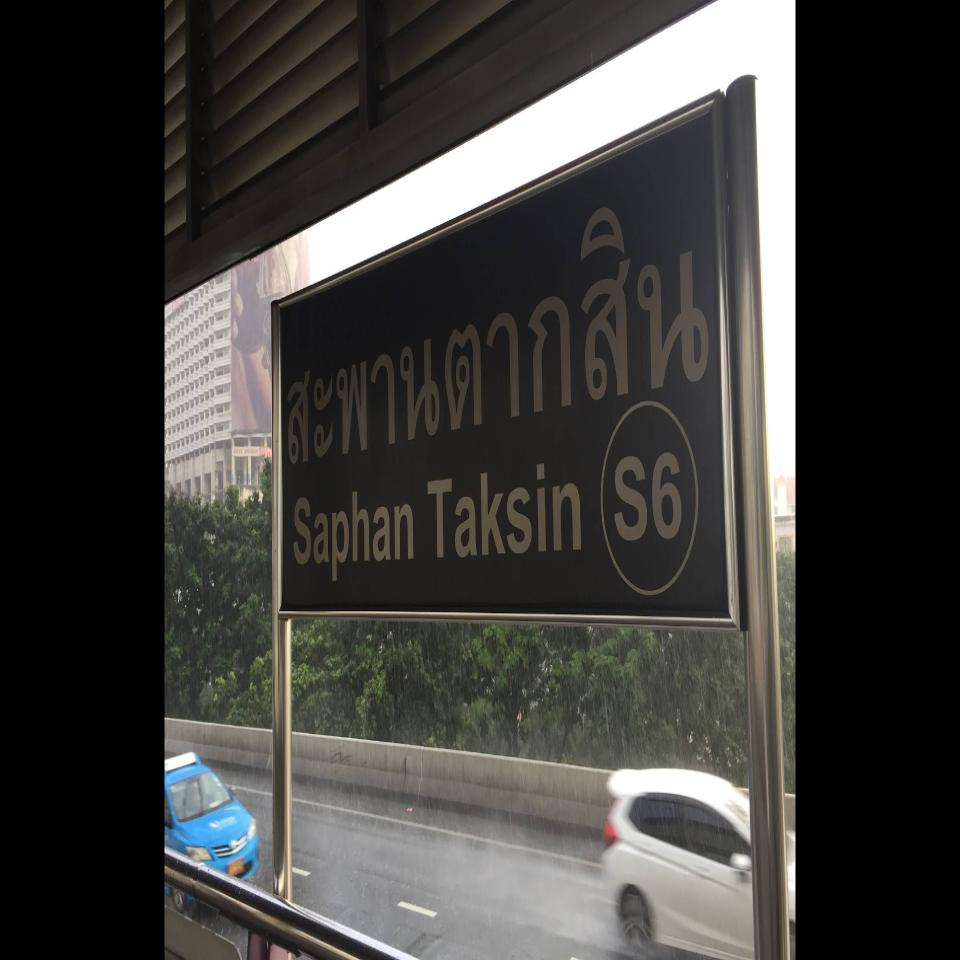Saphan Taksin: (275, 88, 742, 633)
